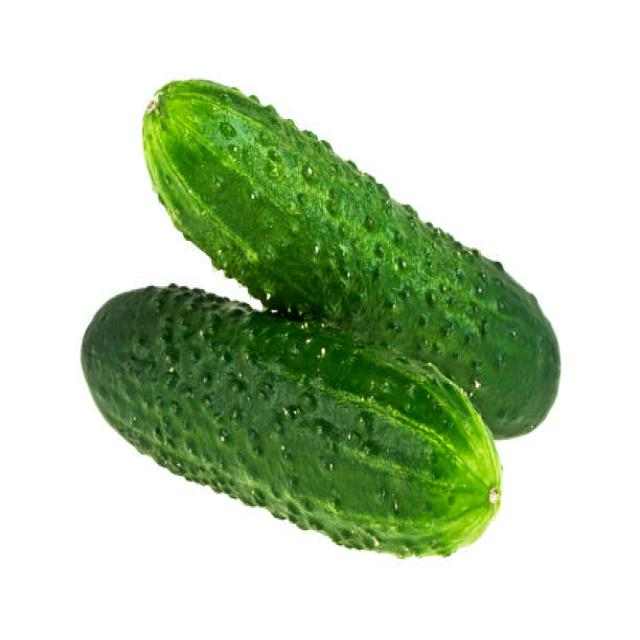cucumber: (143, 74, 562, 439), (79, 284, 504, 562)
